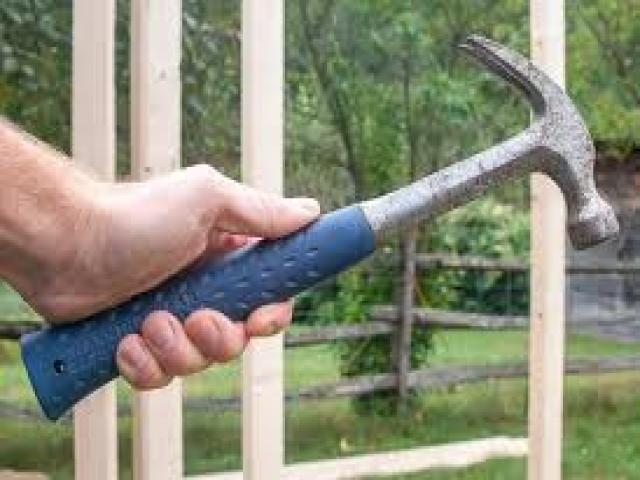Hammer: (21, 36, 619, 420)
Hand: (0, 119, 319, 391)
